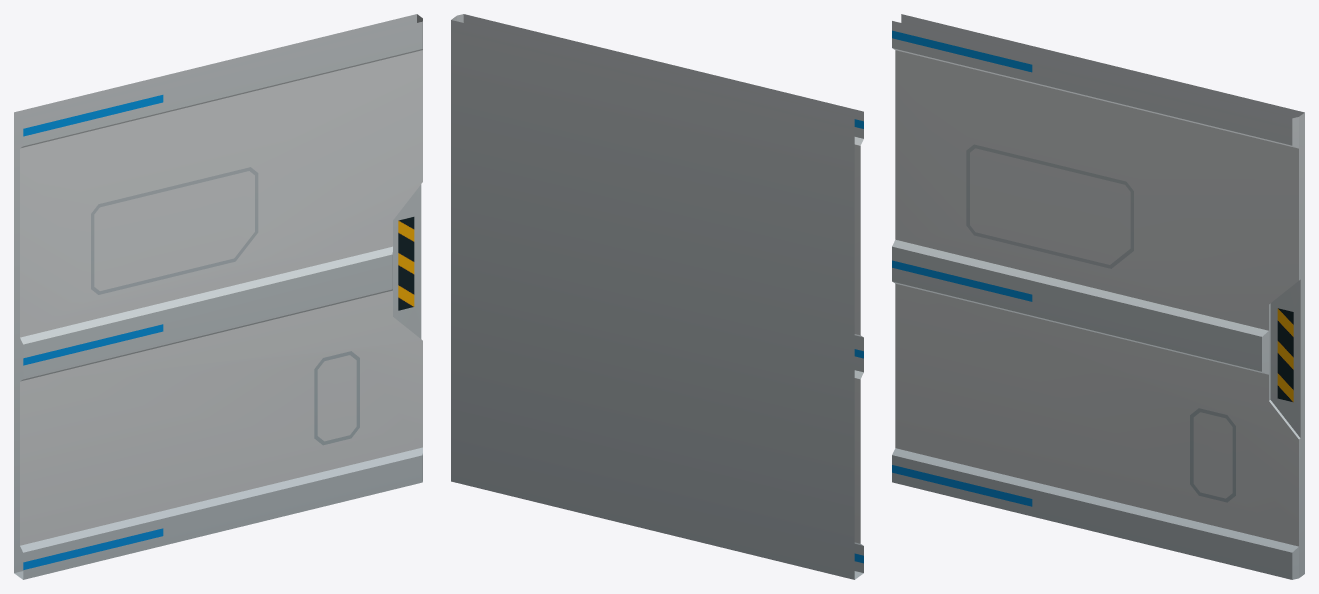
File: Door_panel_018.fbx
The picture shows the model from 3 angles, left to right: view 1: azimuth 30°, elevation 25°; view 2: azimuth 150°, elevation 25°; view 3: azimuth 330°, elevation 25°; orthographic projection.
Parts seen in each view (by area): view 1: Door_panel_018; view 2: Door_panel_018; view 3: Door_panel_018.
Boxes of the visible parts, x1=… form: Door_panel_018: x1=14, y1=14, x2=422, y2=579; Door_panel_018: x1=451, y1=14, x2=863, y2=579; Door_panel_018: x1=892, y1=14, x2=1304, y2=579.
Size of the model in its own units: 266 by 10.53 by 290.
